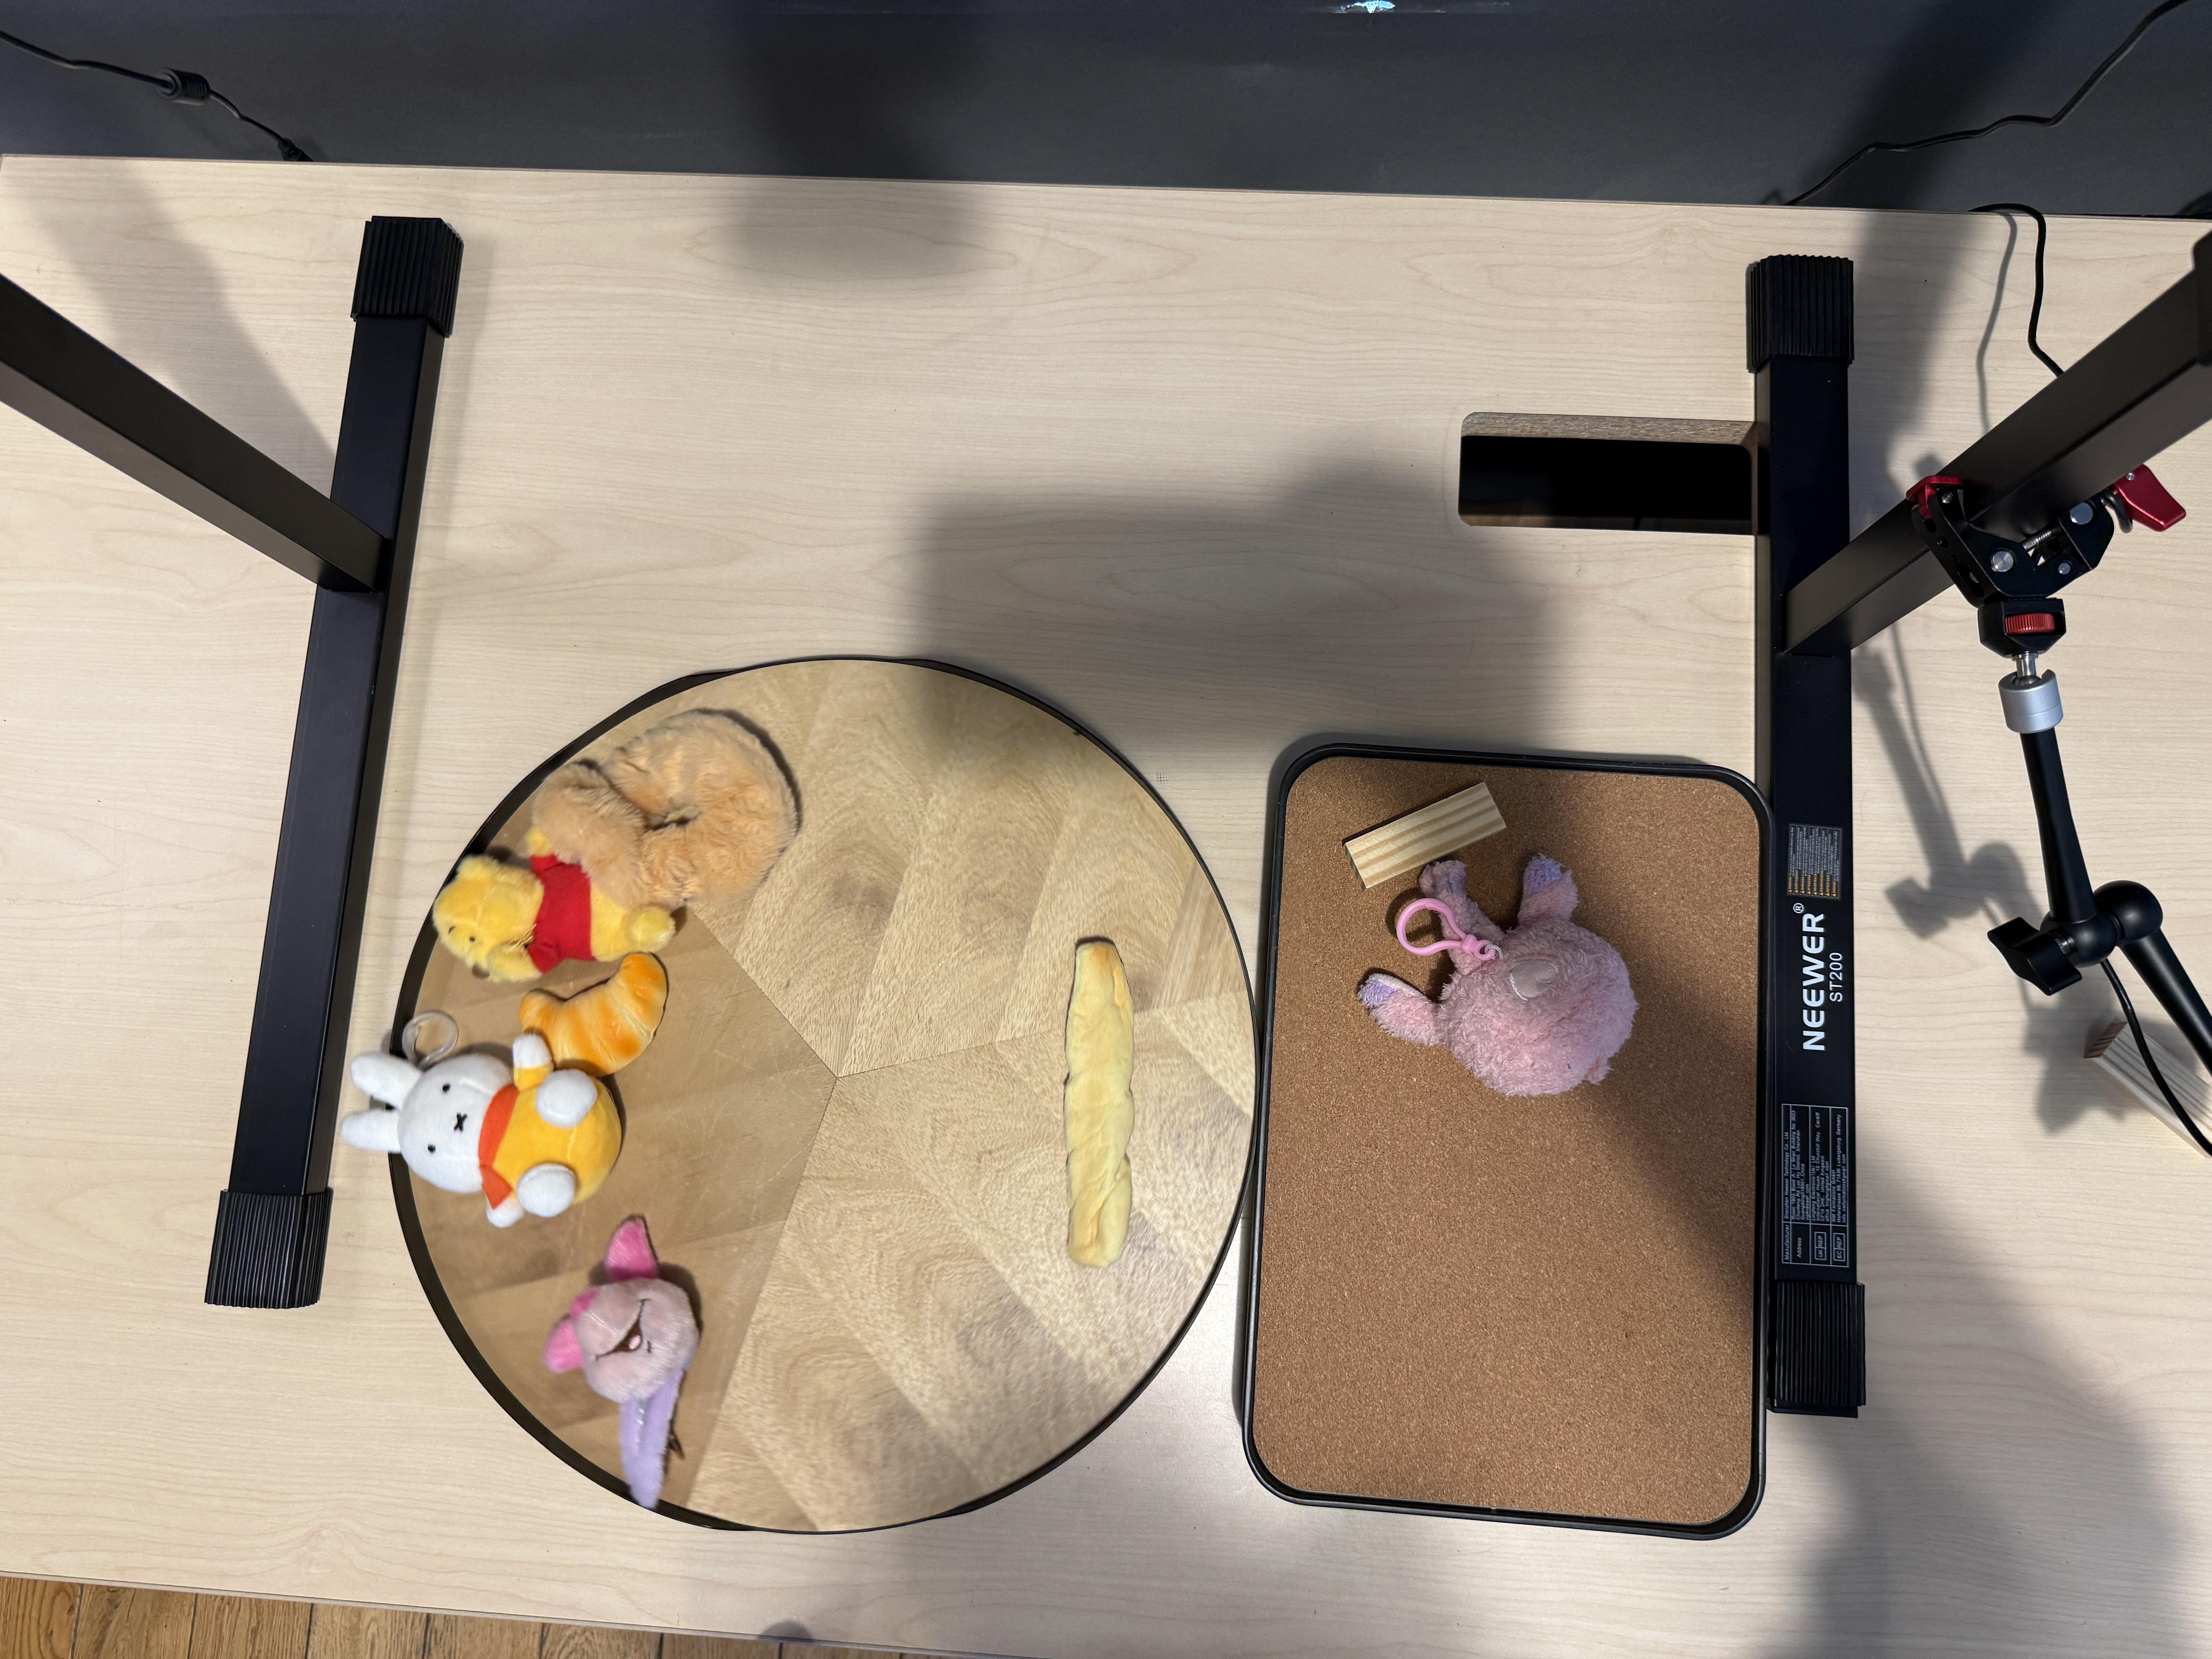block: (1346, 774, 1507, 889)
bread: (1068, 941, 1130, 1267), (517, 953, 667, 1073)
doll: (435, 713, 801, 983), (1353, 854, 1641, 1094), (343, 1014, 625, 1227), (536, 1216, 712, 1509)
